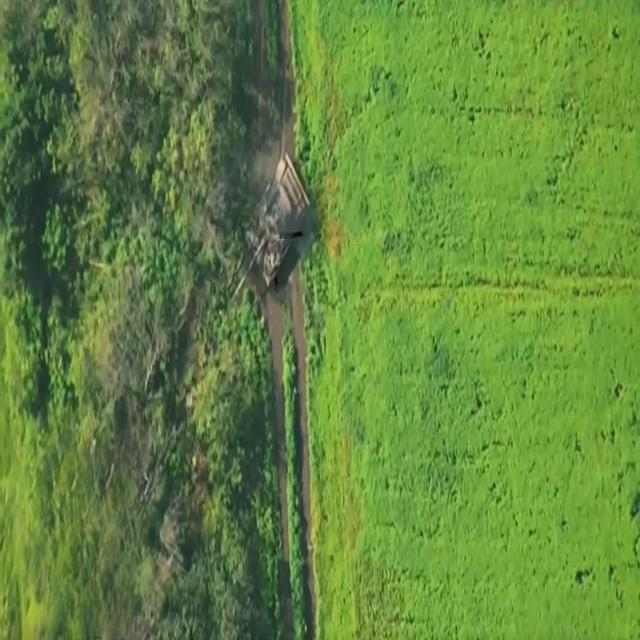MBT: (227, 144, 313, 305)
